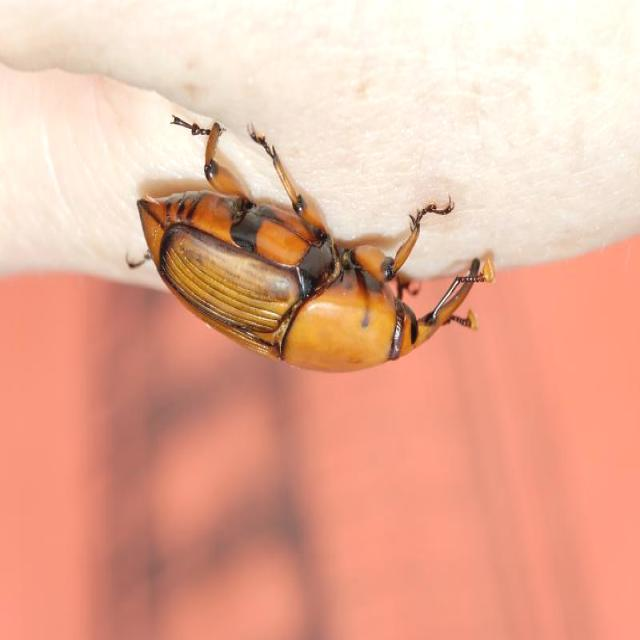Red-palm-weevil: (127, 114, 495, 374)
